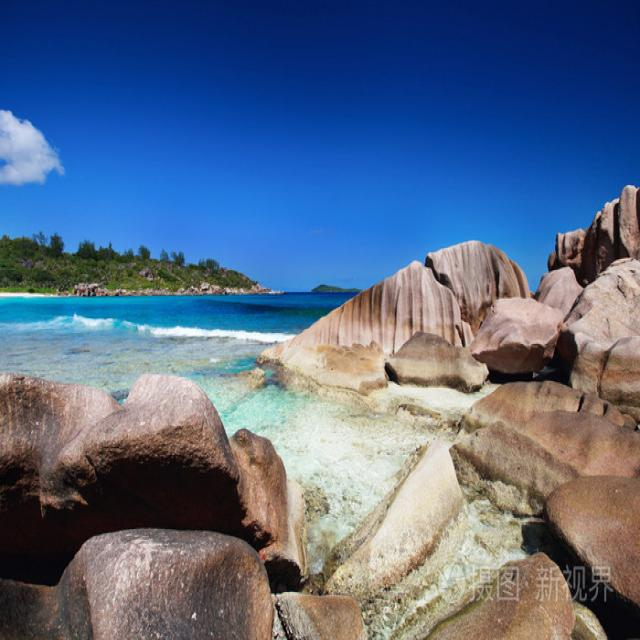island: (0, 220, 275, 309)
